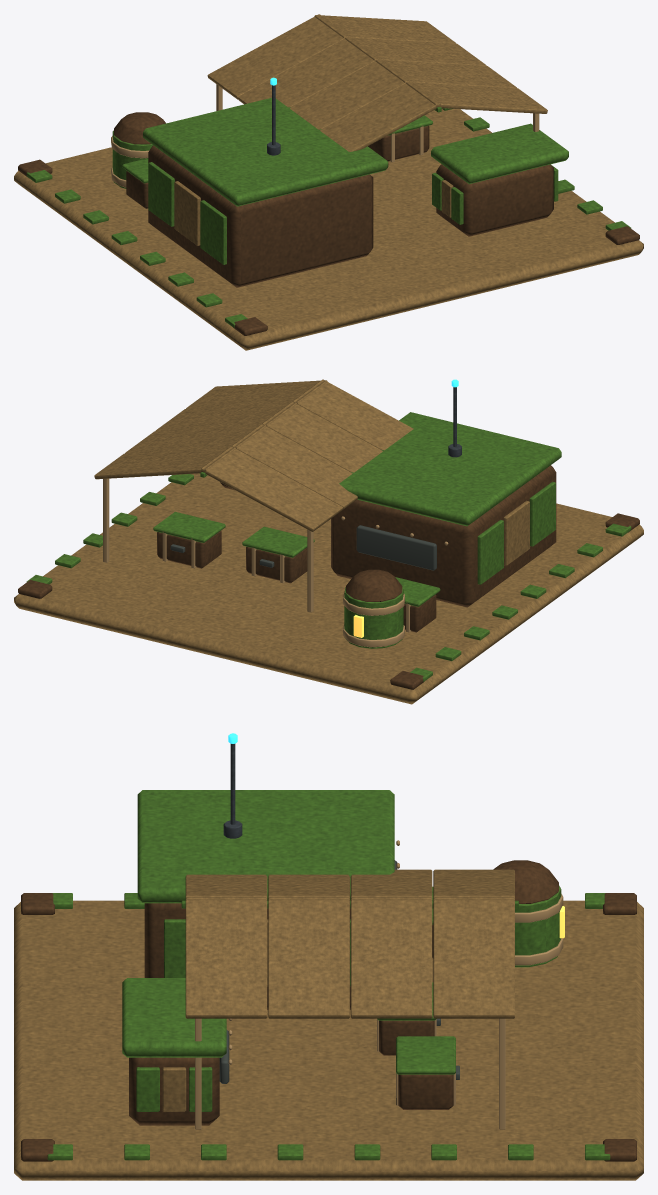
The model's file is vael_camp_de_base.gltf.
The picture shows the model from 3 angles, top to bottom: view 1: azimuth 30°, elevation 25°; view 2: azimuth 150°, elevation 25°; view 3: azimuth 270°, elevation 25°; orthographic projection. The views are drawn at different scales.
Visible parts, largest first — view 1: Root_Geometry; view 2: Root_Geometry; view 3: Root_Geometry.
Part boxes in pixels (x1,y1,x2,y2): Root_Geometry: (14, 14, 643, 350); Root_Geometry: (14, 379, 643, 704); Root_Geometry: (14, 733, 643, 1180).
Size of the model in its own units: 5.91 by 2.65 by 5.91.
8 materials, 4 textured.
